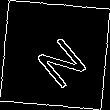N_NW: (24, 23, 86, 87)
